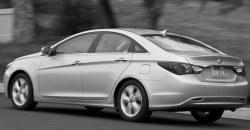car: (7, 26, 250, 122)
